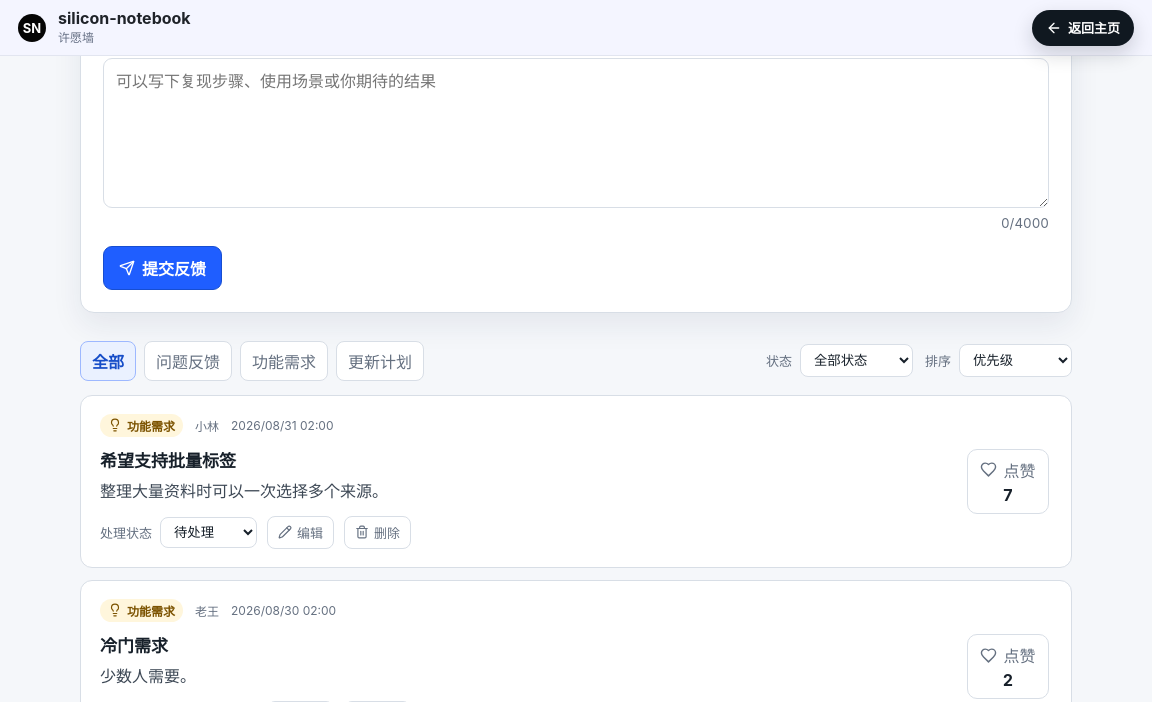
状态筛选会传给列表接口，状态改动后不再匹配的卡片从窗口移除
(page scrolled)
Expected: the heading "希望支持批量标签" is shown, [100,451,236,471]
Select "待处理" in the dropdown named "按处理状态筛选": (856, 361) [800,344,913,377]
(page scrolled)
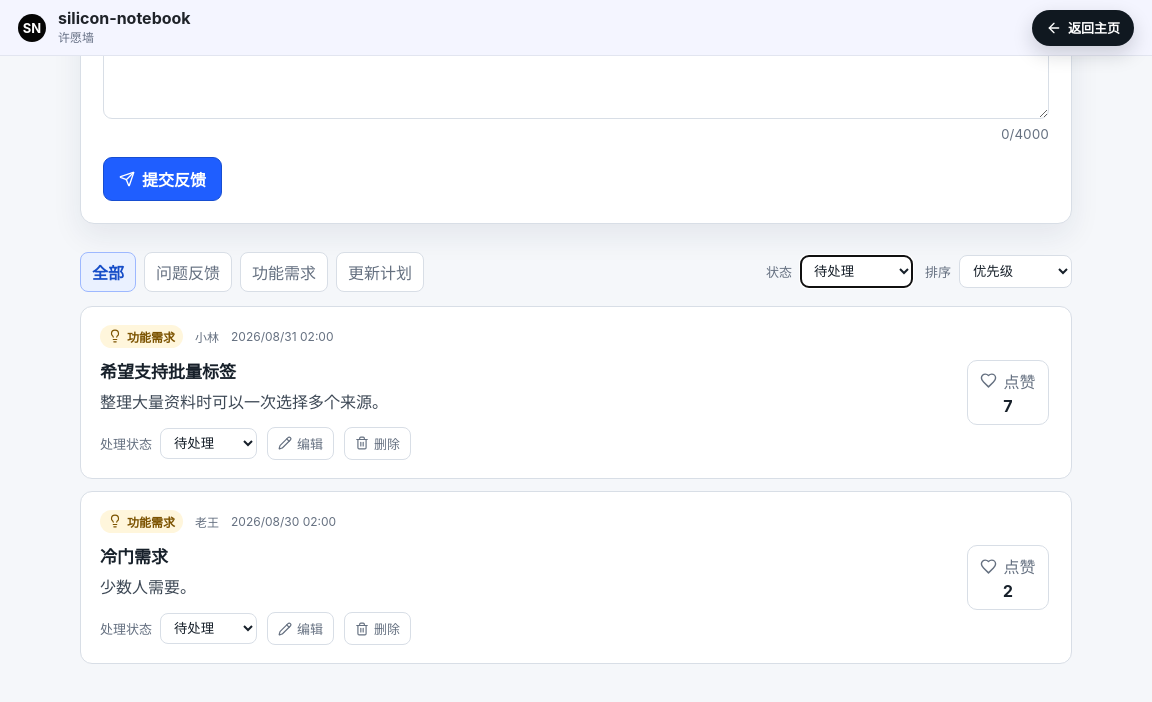
Expected: the text "冷门需求" is shown, [100,547,168,567]
Select "处理中" in the dropdown labelled "处理状态" below "少数人需要。": (208, 629) [160,613,257,644]
(page scrolled)
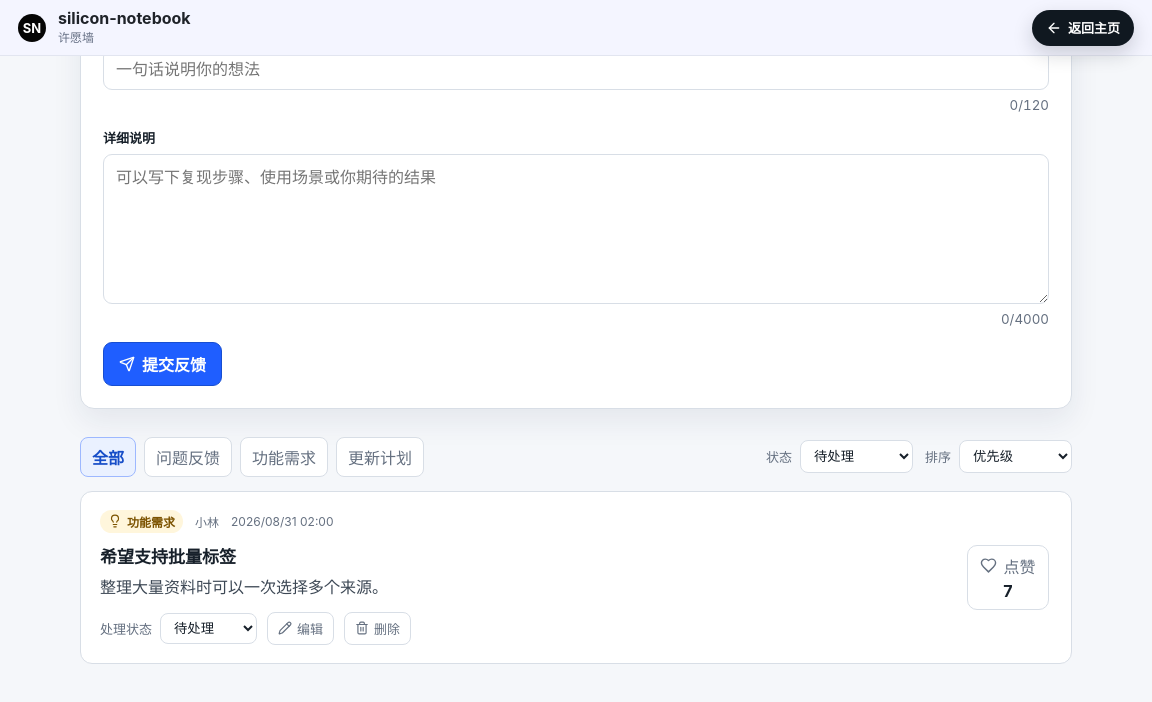
Expected: the heading "希望支持批量标签" is shown, [100,547,236,567]
Result: the heading "冷门需求" is gone
